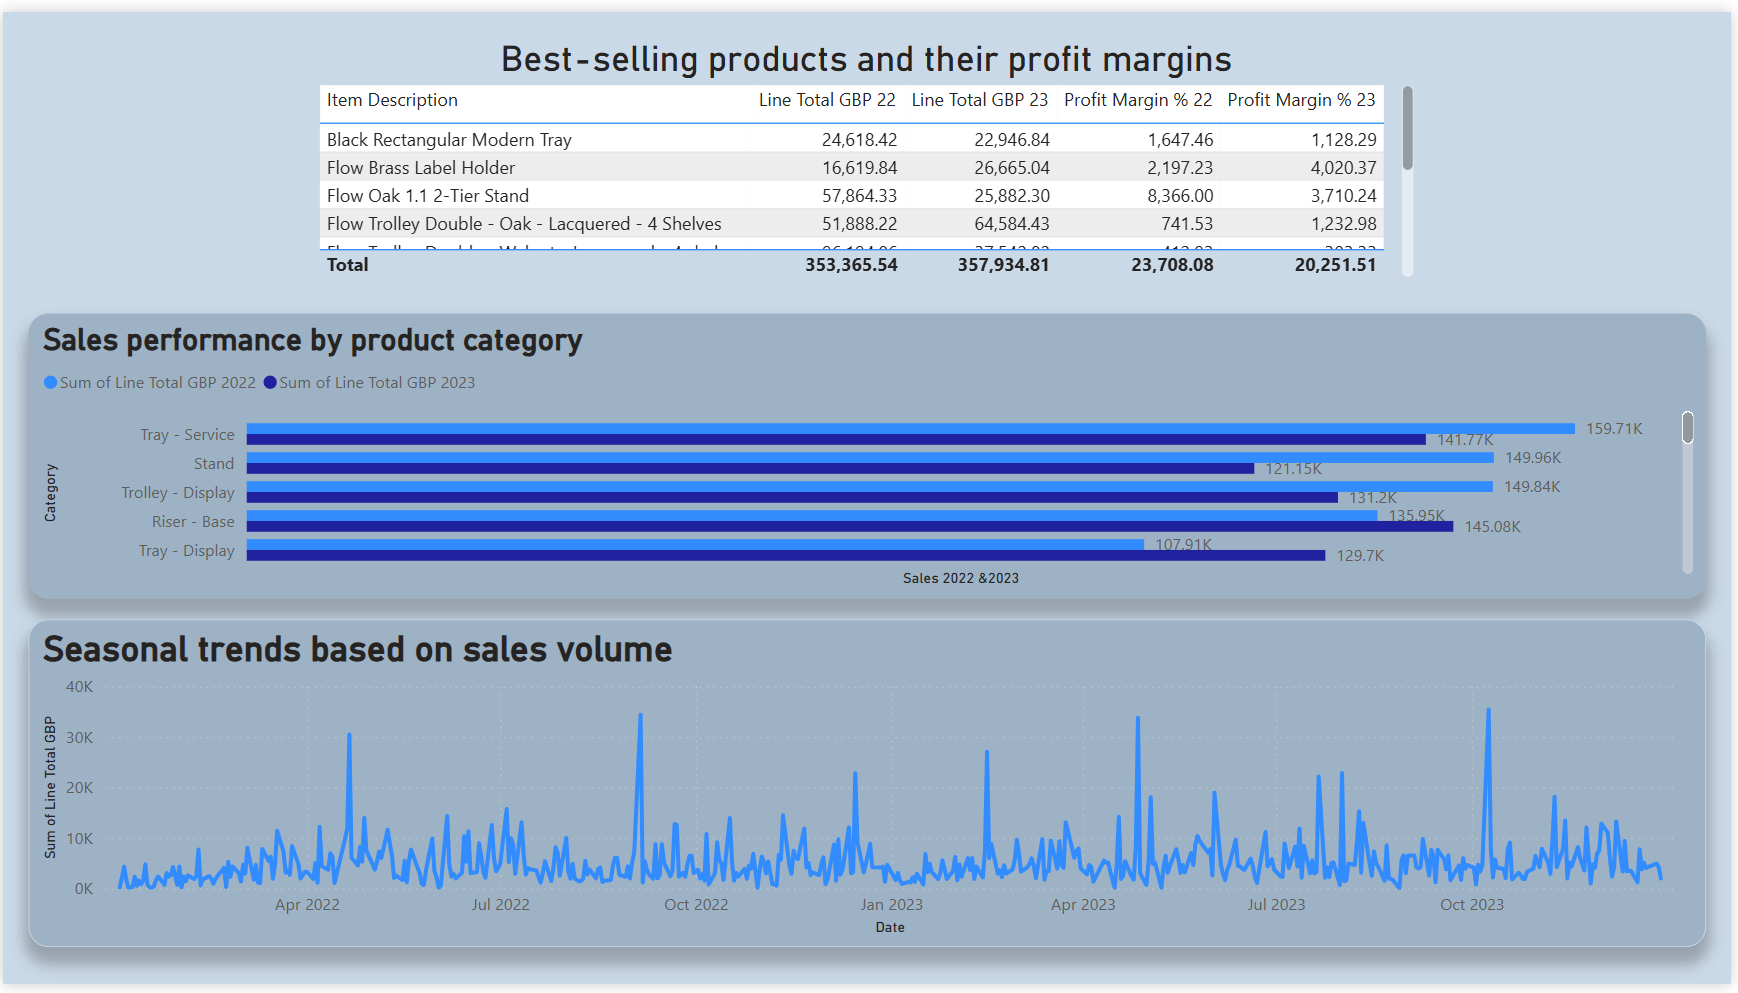

Layout of this report page (visuals, bound fields, positions):
{"tool":"powerbi","page":{"name":"Products Trend","canvas":[1280,720],"ordinal":2},"visuals":[{"type":"clusteredBarChart","title":"Sales performance by product category","fields":{"Category":["Craster Technical Exercise - Product Data.Category"],"Y":["Sum(Craster Technical Exercise - Sales data 2022.Line Total GBP)","Sum(Craster Technical Exercise - Sales data 2023.Line Total GBP)"]},"box":[18.8,223.8,1242.5,211.2],"z":0},{"type":"tableEx","title":"Best-selling products and their profit margins","fields":{"Values":["Craster Technical Exercise - Product Data.Item Description","Sum(Craster Technical Exercise - Sales data 2022.Line Total GBP)","Sum(Craster Technical Exercise - Sales data 2023.Line Total GBP)","Sum(Craster Technical Exercise - Sales data 2022.Profit Margin %)","Sum(Craster Technical Exercise - Sales data 2023.Profit Margin %)"]},"box":[228.8,18.8,821.2,182.5],"z":1000},{"type":"lineChart","title":"Seasonal trends based on sales volume","fields":{"Category":["CombinedSales.Date"],"Y":["Sum(CombinedSales.Line Total GBP)"]},"box":[18.8,450,1242.5,242.5],"z":2000}]}

Visuals, with their boxes in screenshot pixels (x1, y1, x2, y2), scaled from the page's 1280x720 canvas onto the 1738x993 screenshot:
"Sales performance by product category" clusteredBarChart: locate(26, 309, 1713, 600)
"Best-selling products and their profit margins" tableEx: locate(311, 26, 1426, 278)
"Seasonal trends based on sales volume" lineChart: locate(26, 621, 1713, 955)
